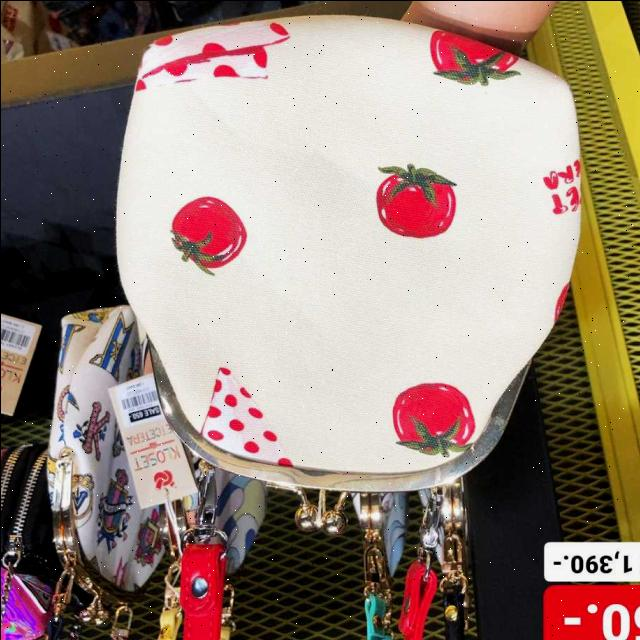handbag: (113, 8, 584, 492)
